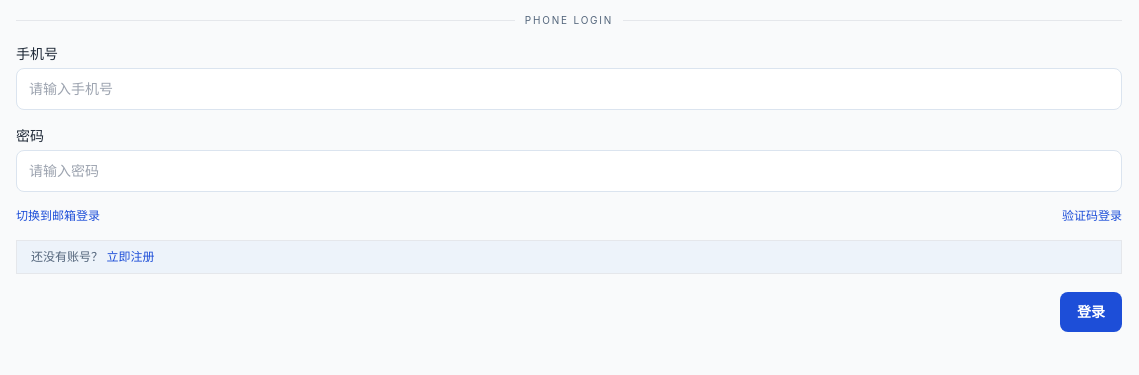
AuthLoginForm async lifecycle › clears the old email OTP session when a resend response has the wrong channel
Click the button "切换到邮箱登录": (58, 216) [16, 208, 100, 224]
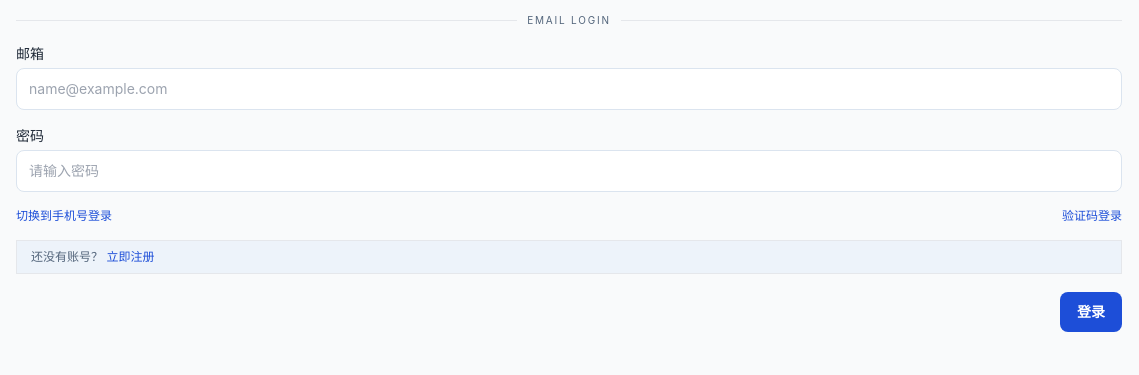
Click the button "验证码登录": (1092, 216) [1062, 208, 1122, 224]
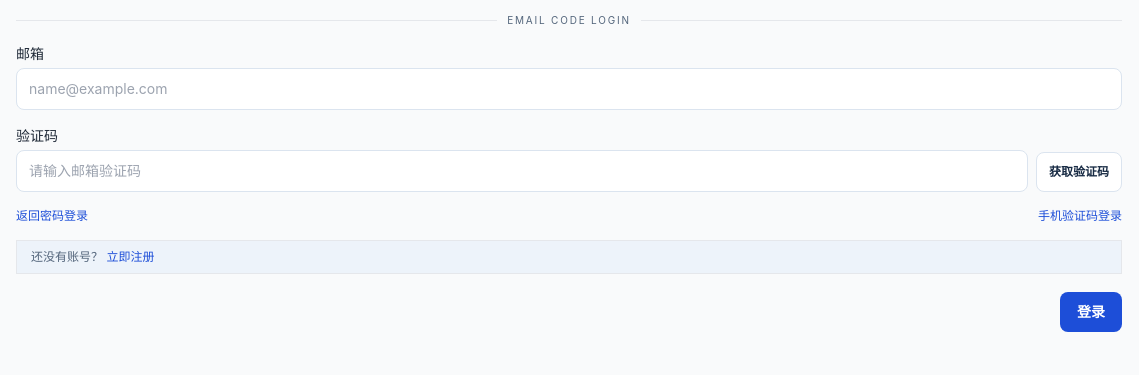
In the field with id "auth-login-email": (569, 89) [16, 68, 1122, 110], type "wrong-channel@example.com"
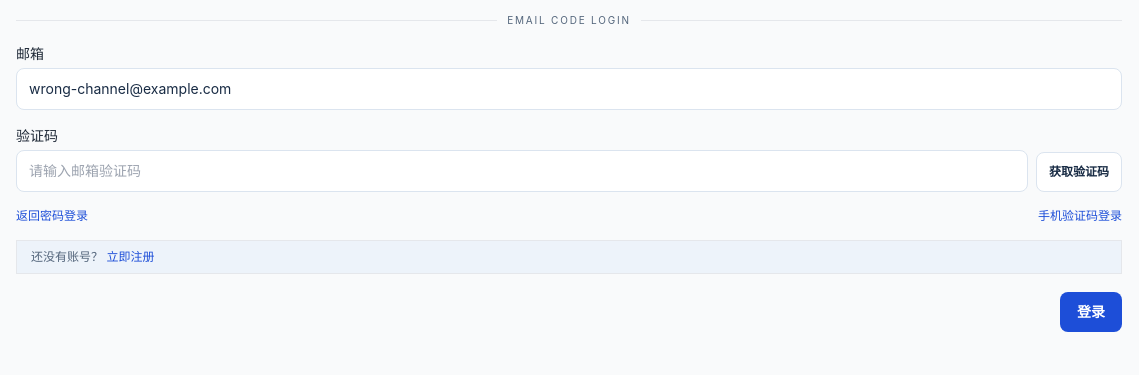
Click the button "获取验证码": (1079, 172) [1036, 152, 1122, 192]
Wait 60000 ms
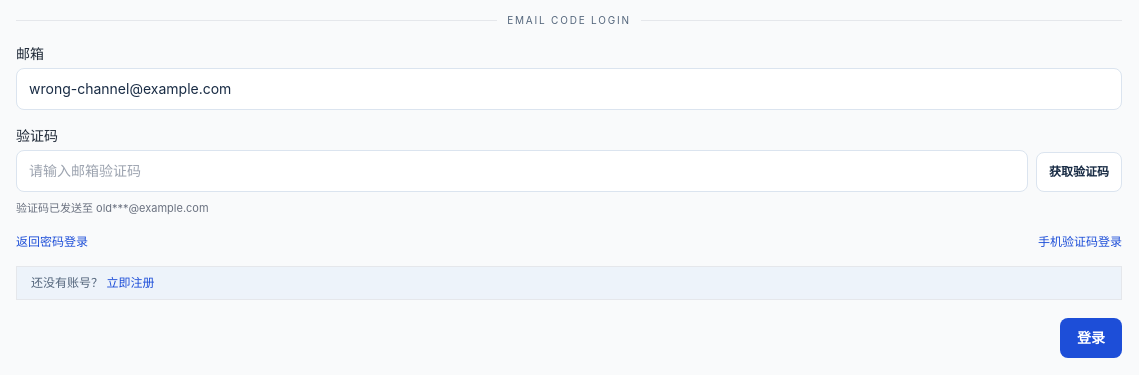
In the field with id "auth-login-code": (522, 171) [16, 150, 1028, 192], type "123456"
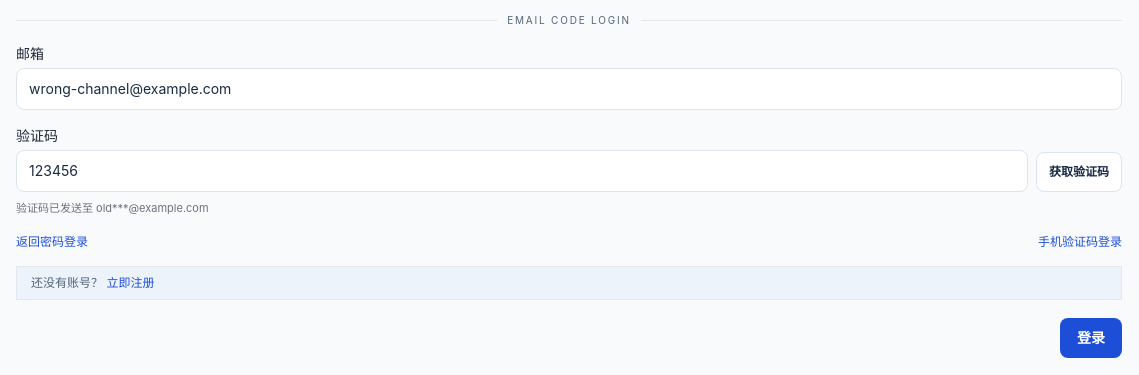
Click the button "获取验证码": (1079, 172) [1036, 152, 1122, 192]
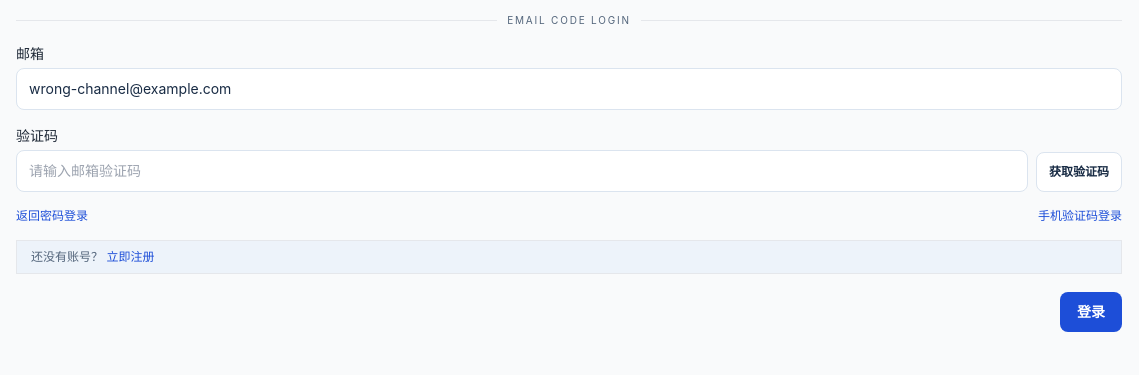
Expected: the text "old***@example.com" is gone
Expected: the field with id "auth-login-code" is empty, [16, 150, 1028, 192]
